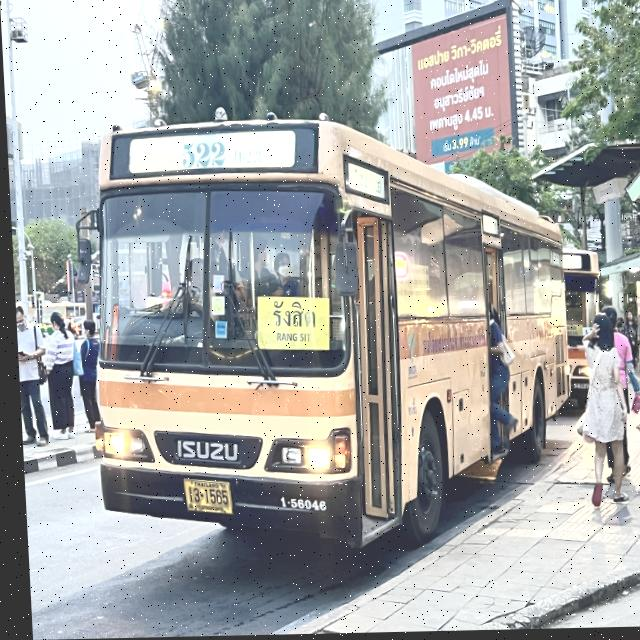BMTA-bus: (75, 91, 579, 568)
Bus Line Number: (174, 137, 271, 172)
Bus Side Number: (269, 489, 331, 518)
Destination Sign: (253, 297, 324, 353)
